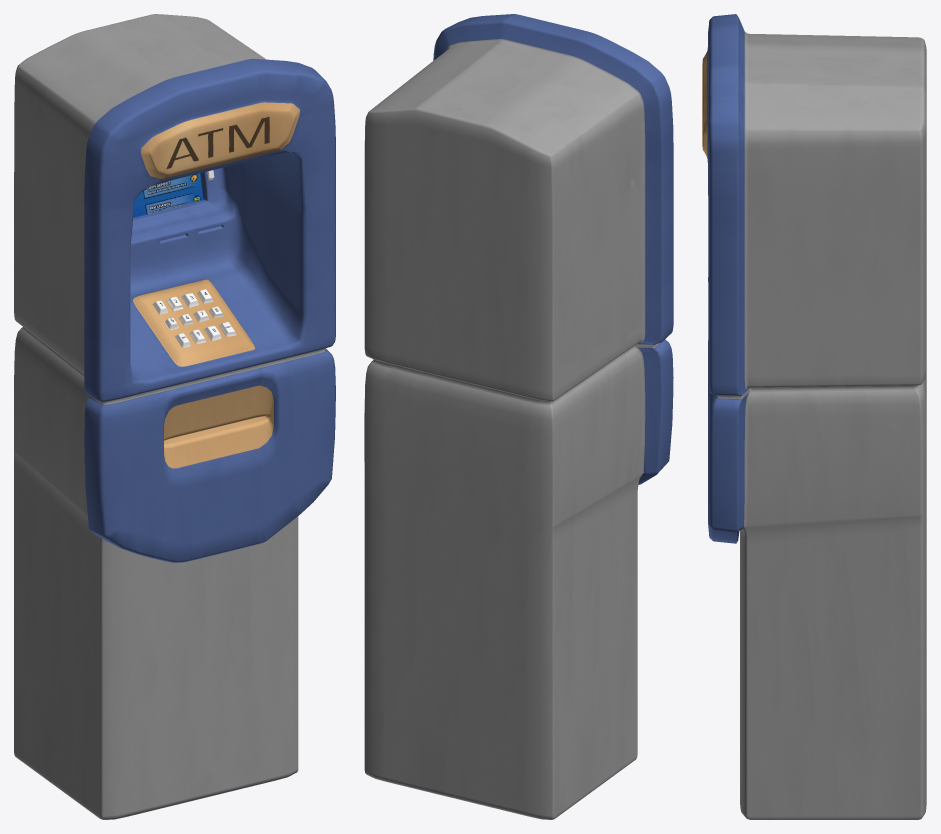
Rendered from Robbers_T3ANI210_ATM_Abdilla.fbx.
3 renders of one model, left to right at view 1: azimuth 30°, elevation 25°; view 2: azimuth 150°, elevation 25°; view 3: azimuth 270°, elevation 25°, orthographic. The views are drawn at different scales.
Parts seen in each view (by area): view 1: ATM_HighRes2; view 2: ATM_HighRes2; view 3: ATM_HighRes2.
Part boxes in pixels (bbox=[...]): ATM_HighRes2: bbox=[14, 14, 335, 819]; ATM_HighRes2: bbox=[364, 14, 673, 819]; ATM_HighRes2: bbox=[702, 14, 926, 819].
Bounding box in the file's own units: 526 × 1521 × 423.
6 materials, 6 textured.
